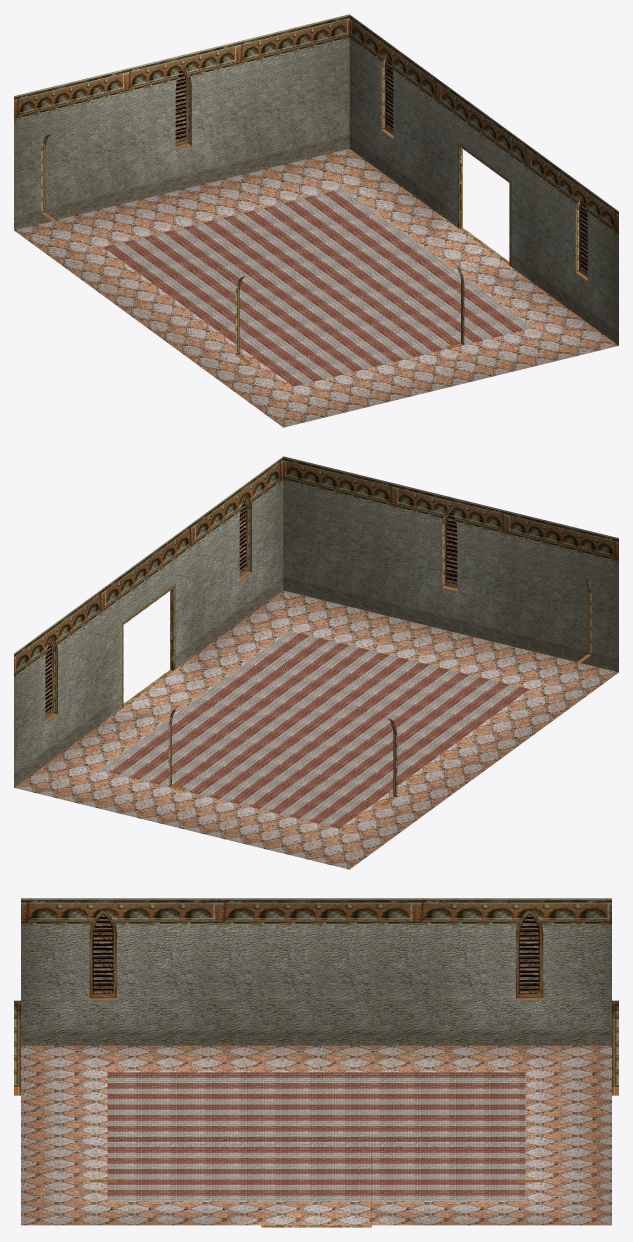
The model's file is M1Z1A_Village4_Int.glb.
3 views of the same model, one above another, from view 1: azimuth 30°, elevation 25°; view 2: azimuth 150°, elevation 25°; view 3: azimuth 270°, elevation 25° (orthographic). The views are drawn at different scales.
Visible parts, largest first — view 1: M1Z1A_VILLAGE4_INT; view 2: M1Z1A_VILLAGE4_INT; view 3: M1Z1A_VILLAGE4_INT.
Boxes of the visible parts, box(x1,y1,x2,y2) form: M1Z1A_VILLAGE4_INT: box(14, 14, 618, 427); M1Z1A_VILLAGE4_INT: box(14, 456, 618, 869); M1Z1A_VILLAGE4_INT: box(14, 898, 618, 1227).
Bounding box in the file's own units: 8.7 × 3.25 × 12.1.
Materials: 8 (8 with a texture image).
